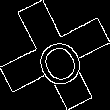O_NW: (25, 23, 85, 87)
